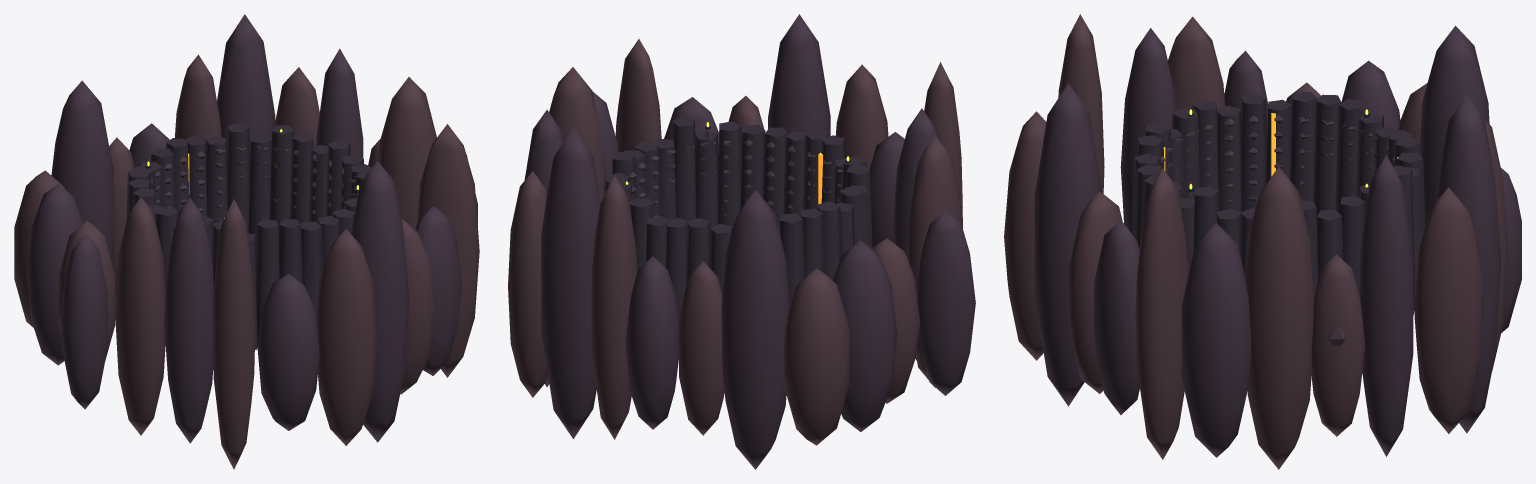
Rendered from volcano.glb.
The picture shows the model from 3 angles, left to right: view 1: azimuth 30°, elevation 25°; view 2: azimuth 150°, elevation 25°; view 3: azimuth 270°, elevation 25°; orthographic projection. The views are drawn at different scales.
Parts seen in each view (by area): view 1: volcano_environment; view 2: volcano_environment; view 3: volcano_environment.
Boxes of the visible parts, x1,y1,x2,y2 form: volcano_environment: (14, 14, 479, 469); volcano_environment: (508, 14, 975, 469); volcano_environment: (1004, 14, 1521, 469).
Bounding box in the file's own units: 93.18 × 65.57 × 90.66.
